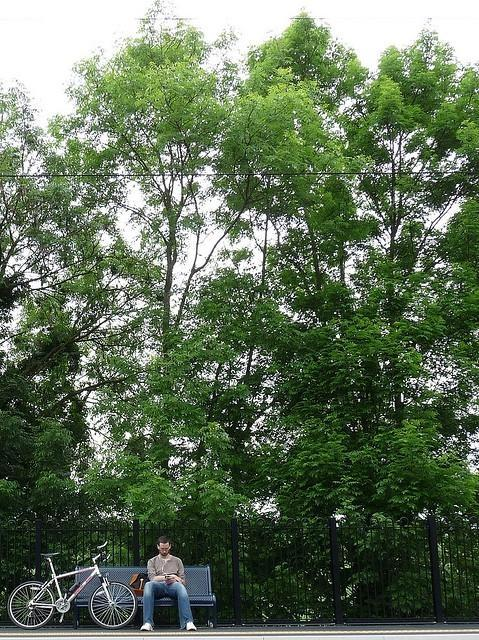bicycle: (8, 542, 138, 630)
